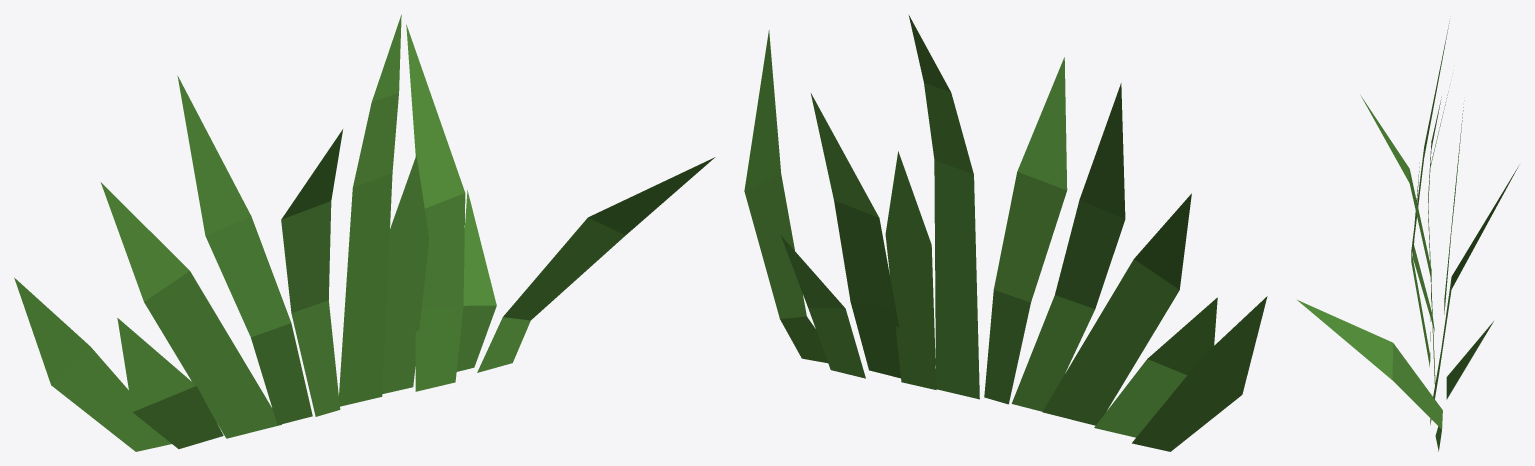
The model's file is grass.glb.
3 views of the same model, side by side, from view 1: azimuth 30°, elevation 25°; view 2: azimuth 150°, elevation 25°; view 3: azimuth 270°, elevation 25° (orthographic). The views are drawn at different scales.
Visible parts, largest first — view 1: grass; view 2: grass; view 3: grass.
Boxes of the visible parts, left/top/right/bottom form: grass: left=14, top=14, right=715, bottom=451; grass: left=744, top=15, right=1267, bottom=451; grass: left=1297, top=21, right=1518, bottom=451.
Bounding box in the file's own units: 1.48 × 0.8829 × 0.5718.
